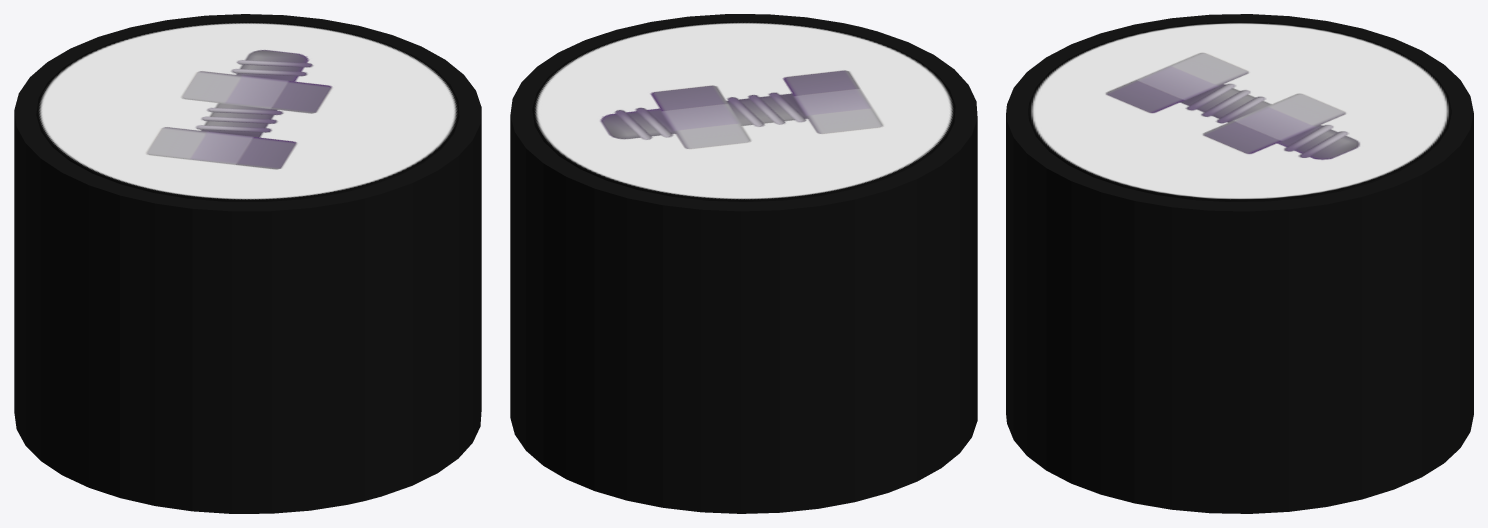
The picture shows the model from 3 angles, left to right: view 1: azimuth 30°, elevation 25°; view 2: azimuth 150°, elevation 25°; view 3: azimuth 270°, elevation 25°; orthographic projection.
Visible parts, largest first — view 1: base_link; view 2: base_link; view 3: base_link.
Part boxes in pixels (bbox=[...]): base_link: bbox=[14, 14, 481, 513]; base_link: bbox=[510, 14, 977, 513]; base_link: bbox=[1006, 14, 1473, 513].
Size of the model in its own units: 0.07 by 0.0701 by 0.0503.
2 materials, 1 textured.
